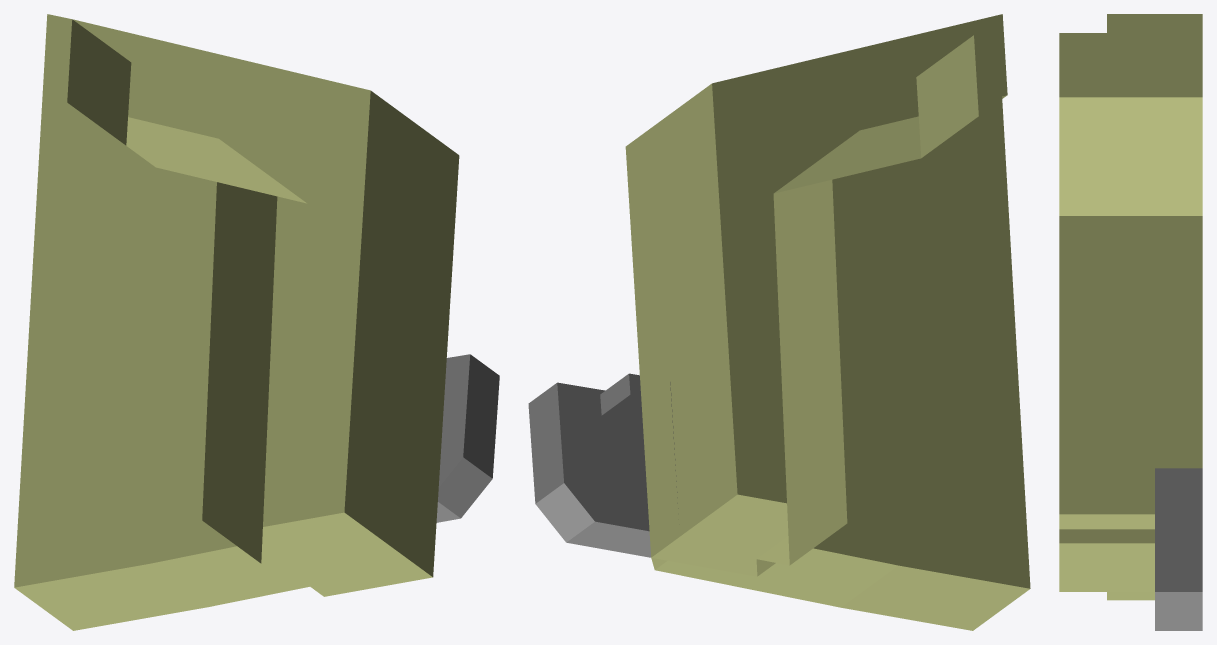
The picture shows the model from 3 angles, left to right: view 1: azimuth 30°, elevation 25°; view 2: azimuth 150°, elevation 25°; view 3: azimuth 270°, elevation 25°; orthographic projection. The views are drawn at different scales.
Parts seen in each view (by area): view 1: 0_2_1_3_0_3_1_2_1; view 2: 0_2_1_3_0_3_1_2_1; view 3: 0_2_1_3_0_3_1_2_1.
Part boxes in pixels (x1,y1,x2,y2): 0_2_1_3_0_3_1_2_1: (14,14,499,630); 0_2_1_3_0_3_1_2_1: (528,14,1030,630); 0_2_1_3_0_3_1_2_1: (1059,14,1202,630).
Bounding box in the file's own units: 26.73 × 32.64 × 9.01.
